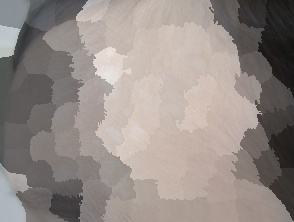vitiligo: (25, 0, 256, 222)
